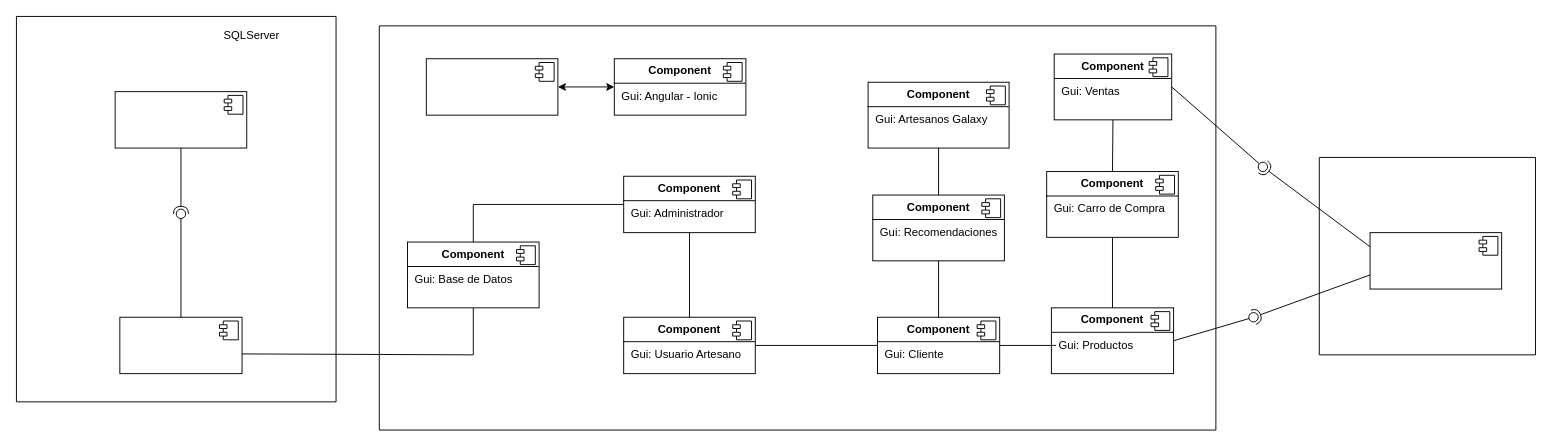
This 1552x447 diagram has some shape labels left out. Each missing label, with the centre of its shape:
Component Base De Datos: pixel 180 119
Component Clientes Compra Online: pixel 1435 260
Component Controlador: pixel 180 345
Component Gui: Django: pixel 491 86
